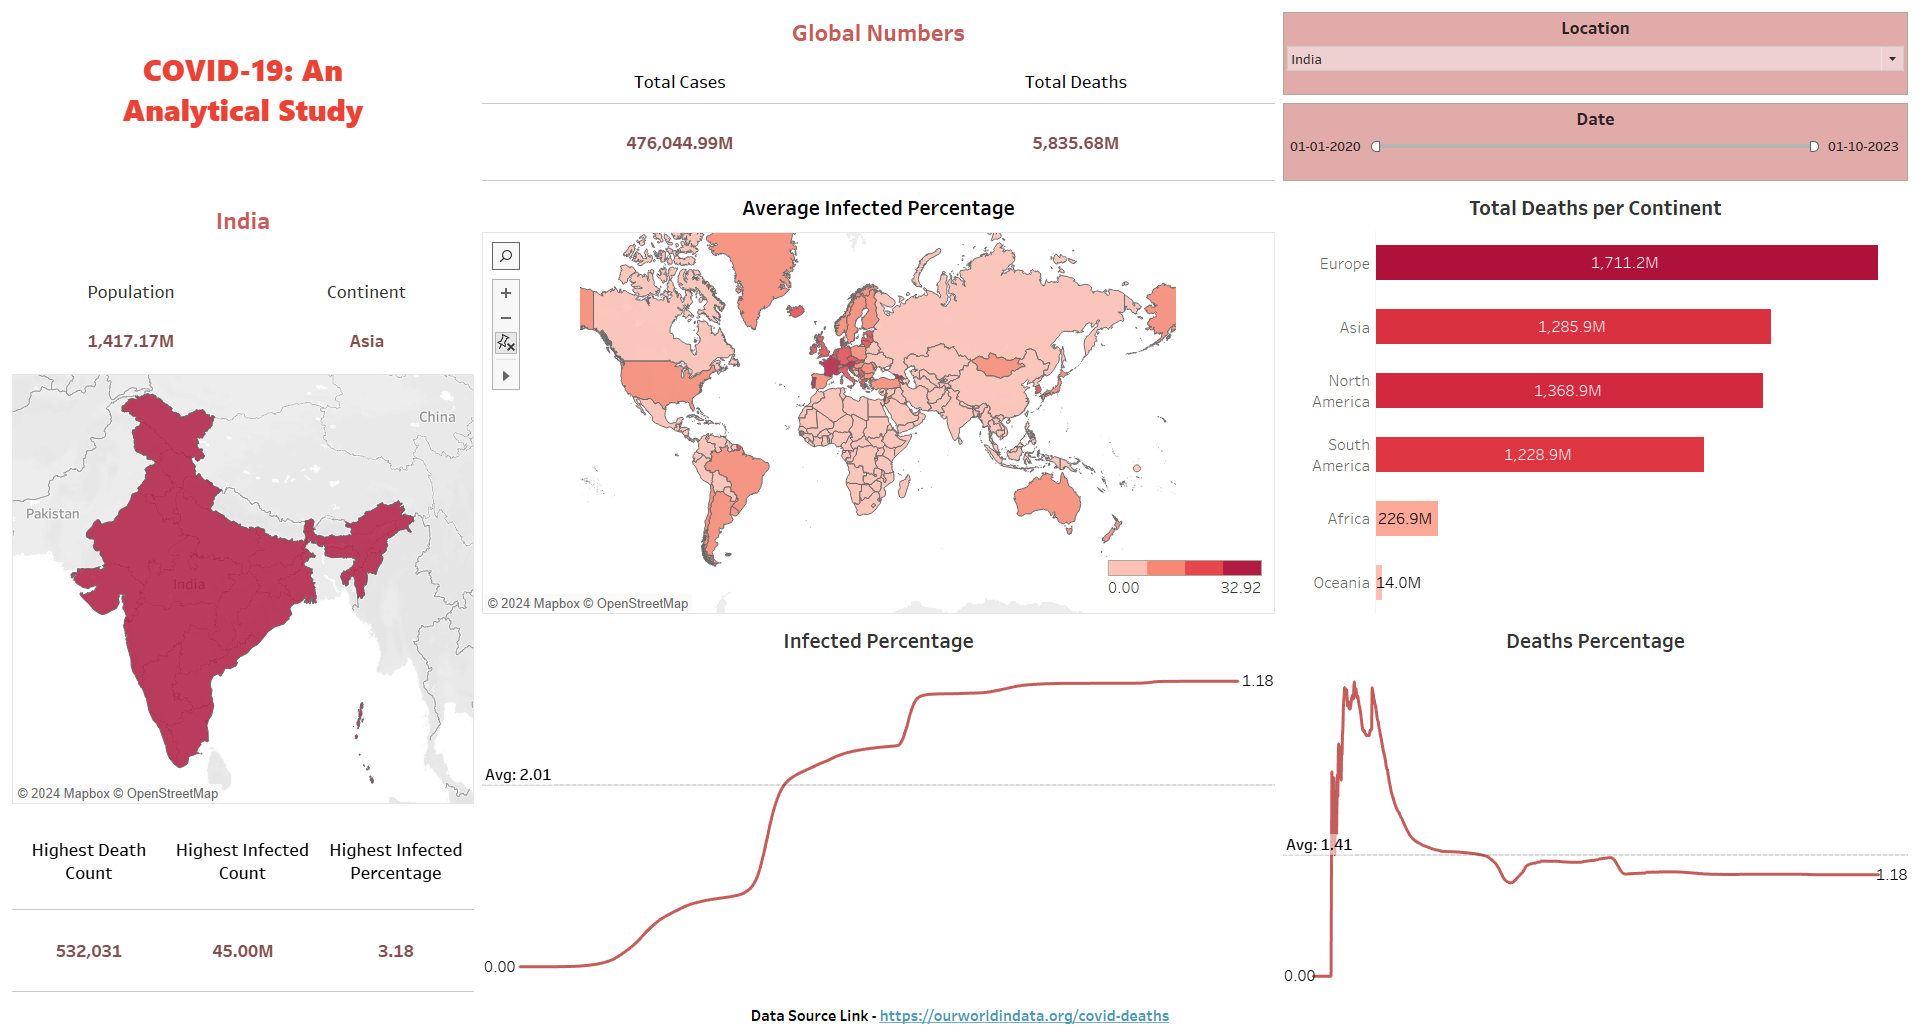

The dashboard page shown, as its layout file describes it:
{"tool":"tableau","page":{"name":"Covid 19 Analysis","canvas":[1000,1000],"units":"permille","ordinal":0},"visuals":[{"type":"worksheet","title":"Title","mark":"Automatic","box":[4.8,9.4,244.7,153.8]},{"type":"worksheet","title":"Global Numbers","mark":"Automatic","box":[249.5,9.4,416.6,169.3]},{"type":"filter","title":"Deaths_Percentage","param":"[federated.16hm2zx15iklxu16epmv50di3ae4].[none:location:nk]","box":[666.1,9.4,329,87.1]},{"type":"filter","title":"Deaths_Percentage","param":"[federated.16hm2zx15iklxu16epmv50di3ae4].[none:date:qk]","box":[666.1,96.5,329,82.2]},{"type":"worksheet","title":"Country Name","mark":"Automatic","box":[4.8,163.2,244.7,97.7]},{"type":"worksheet","title":"Average_Infected","mark":"Automatic","box":[249.5,178.7,416.5,413.3]},{"type":"worksheet","title":"Highest Death Count_continent","mark":"Automatic","rows":["location"],"cols":["Calculation_1948932750951219202"],"box":[666.1,178.7,329.1,413.3]},{"type":"worksheet","title":"Population","mark":"Automatic","box":[4.8,260.9,127.8,94.9]},{"type":"worksheet","title":"Continent","mark":"Automatic","box":[132.6,260.9,117,94.9]},{"type":"worksheet","title":"Average_Infected Countrywise","mark":"Automatic","box":[4.8,355.8,244.7,399]},{"type":"legend","title":"Average_Infected","param":"[federated.16hm2zx15iklxu16epmv50di3ae4].[avg:Calculation_1948932750950854657:qk","box":[575.1,533.5,84.5,50.5]},{"type":"worksheet","title":"Infected_percentage","mark":"Automatic","rows":["Calculation_1948932750950854657"],"cols":["date"],"box":[249.5,592,416.5,361]},{"type":"worksheet","title":"Deaths_Percentage","mark":"Automatic","rows":["Calculation_1948932750950305792"],"cols":["date"],"box":[666.1,592,329.1,361]},{"type":"worksheet","title":"Highest Attr","mark":"Automatic","box":[4.8,754.8,244.7,198.2]},{"type":"text","box":[4.8,953,990.3,37.6]}]}

Visuals, with their boxes on the dashboard's canvas, which has no fixed pixel size, in thousandths of its width and height (x1, y1, x2, y2). These are canvas units, not pixel positions in the 1920x1030 screenshot, which may show the page scaled, cropped or inside an application window:
"Title" worksheet: {"left": 5, "top": 9, "right": 250, "bottom": 163}
"Global Numbers" worksheet: {"left": 250, "top": 9, "right": 666, "bottom": 179}
"Deaths_Percentage" filter: {"left": 666, "top": 9, "right": 995, "bottom": 96}
"Deaths_Percentage" filter: {"left": 666, "top": 96, "right": 995, "bottom": 179}
"Country Name" worksheet: {"left": 5, "top": 163, "right": 250, "bottom": 261}
"Average_Infected" worksheet: {"left": 250, "top": 179, "right": 666, "bottom": 592}
"Highest Death Count_continent" worksheet: {"left": 666, "top": 179, "right": 995, "bottom": 592}
"Population" worksheet: {"left": 5, "top": 261, "right": 133, "bottom": 356}
"Continent" worksheet: {"left": 133, "top": 261, "right": 250, "bottom": 356}
"Average_Infected Countrywise" worksheet: {"left": 5, "top": 356, "right": 250, "bottom": 755}
"Average_Infected" legend: {"left": 575, "top": 534, "right": 660, "bottom": 584}
"Infected_percentage" worksheet: {"left": 250, "top": 592, "right": 666, "bottom": 953}
"Deaths_Percentage" worksheet: {"left": 666, "top": 592, "right": 995, "bottom": 953}
"Highest Attr" worksheet: {"left": 5, "top": 755, "right": 250, "bottom": 953}
text: {"left": 5, "top": 953, "right": 995, "bottom": 991}
